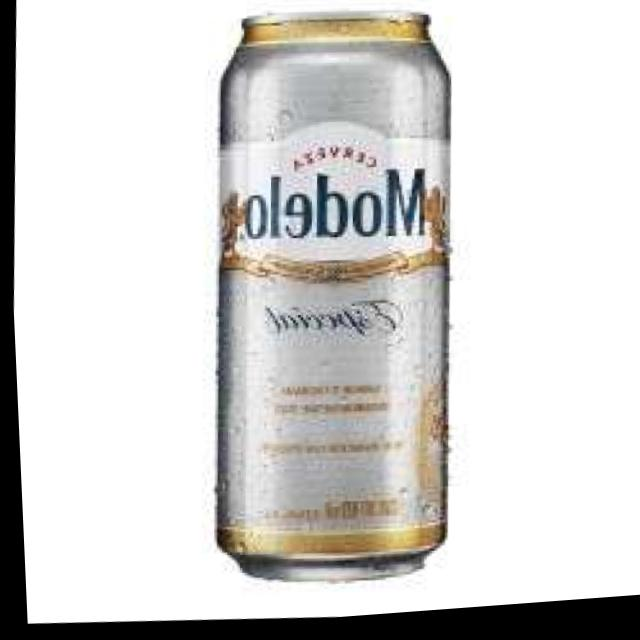Lata: (184, 0, 487, 602)
